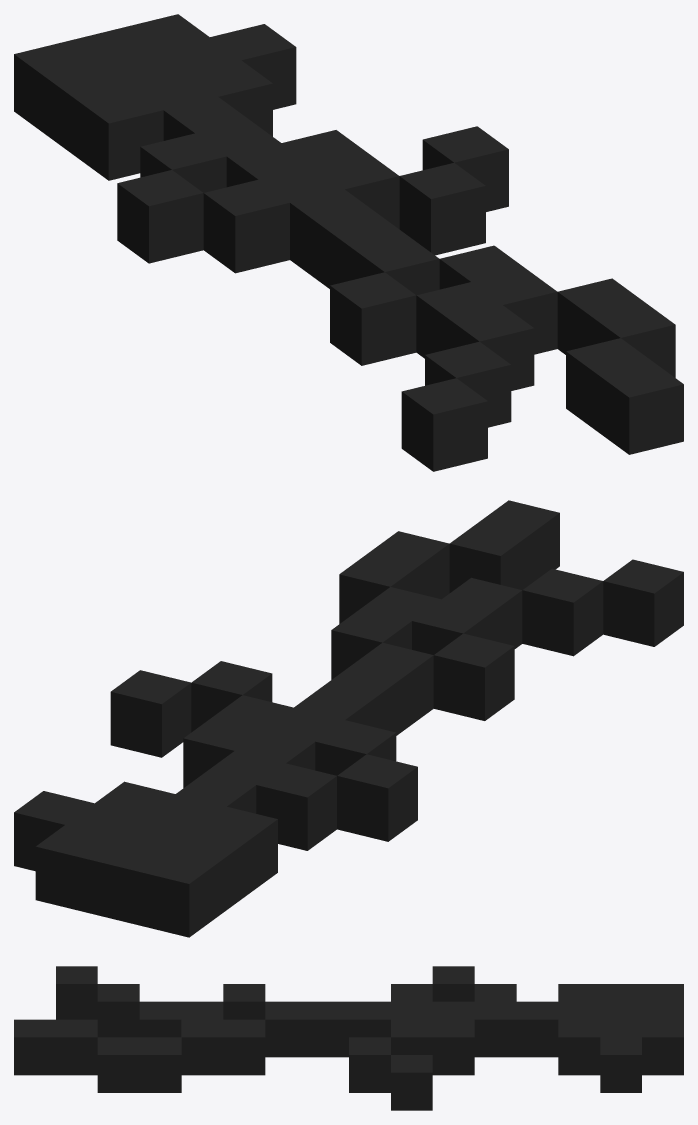
Rendered from RunnerRun2.obj.
The picture shows the model from 3 angles, top to bottom: view 1: azimuth 30°, elevation 25°; view 2: azimuth 150°, elevation 25°; view 3: azimuth 270°, elevation 25°; orthographic projection. The views are drawn at different scales.
Size of the model in its own units: 0.6 by 0.1 by 1.6.
1 material, 1 textured.
